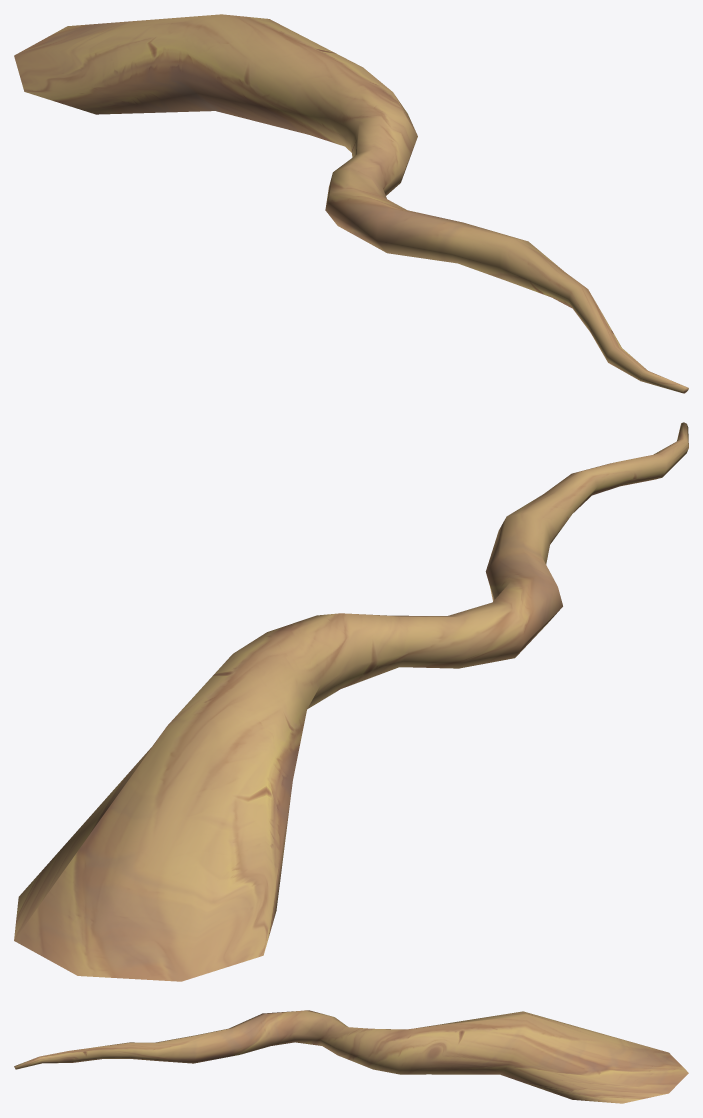
Rendered from SM_ENV_treeroot_ancient_02.fbx.
3 renders of one model, top to bottom at view 1: azimuth 30°, elevation 25°; view 2: azimuth 150°, elevation 25°; view 3: azimuth 270°, elevation 25°, orthographic. The views are drawn at different scales.
Parts seen in each view (by area): view 1: SM_ENV_treeroot_ancient_02_LOD0; view 2: SM_ENV_treeroot_ancient_02_LOD0; view 3: SM_ENV_treeroot_ancient_02_LOD0.
Boxes of the visible parts, x1,y1,x2,y2 form: SM_ENV_treeroot_ancient_02_LOD0: (14, 14, 688, 393); SM_ENV_treeroot_ancient_02_LOD0: (14, 422, 688, 981); SM_ENV_treeroot_ancient_02_LOD0: (14, 1010, 688, 1103).
Bounding box in the file's own units: 71.34 × 35.16 × 341.
